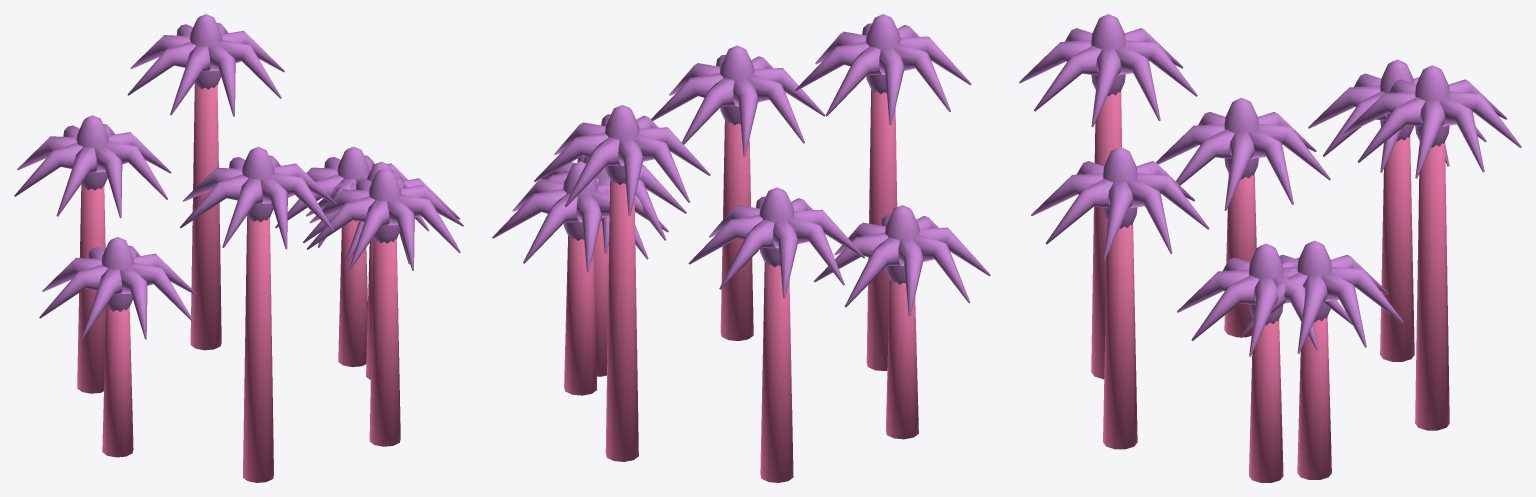
The model's file is underwater-reef-worlds-xenia-clump-b2d4ab99__7012.glb.
3 renders of one model, left to right at view 1: azimuth 30°, elevation 25°; view 2: azimuth 150°, elevation 25°; view 3: azimuth 270°, elevation 25°, orthographic. The views are drawn at different scales.
Parts seen in each view (by area): view 1: xenia-clump; view 2: xenia-clump; view 3: xenia-clump.
Part boxes in pixels (<box>): xenia-clump: <box>14,14,463,482</box>; xenia-clump: <box>492,14,990,482</box>; xenia-clump: <box>1019,14,1521,482</box>.
Size of the model in its own units: 0.7553 by 0.57 by 0.7249.
